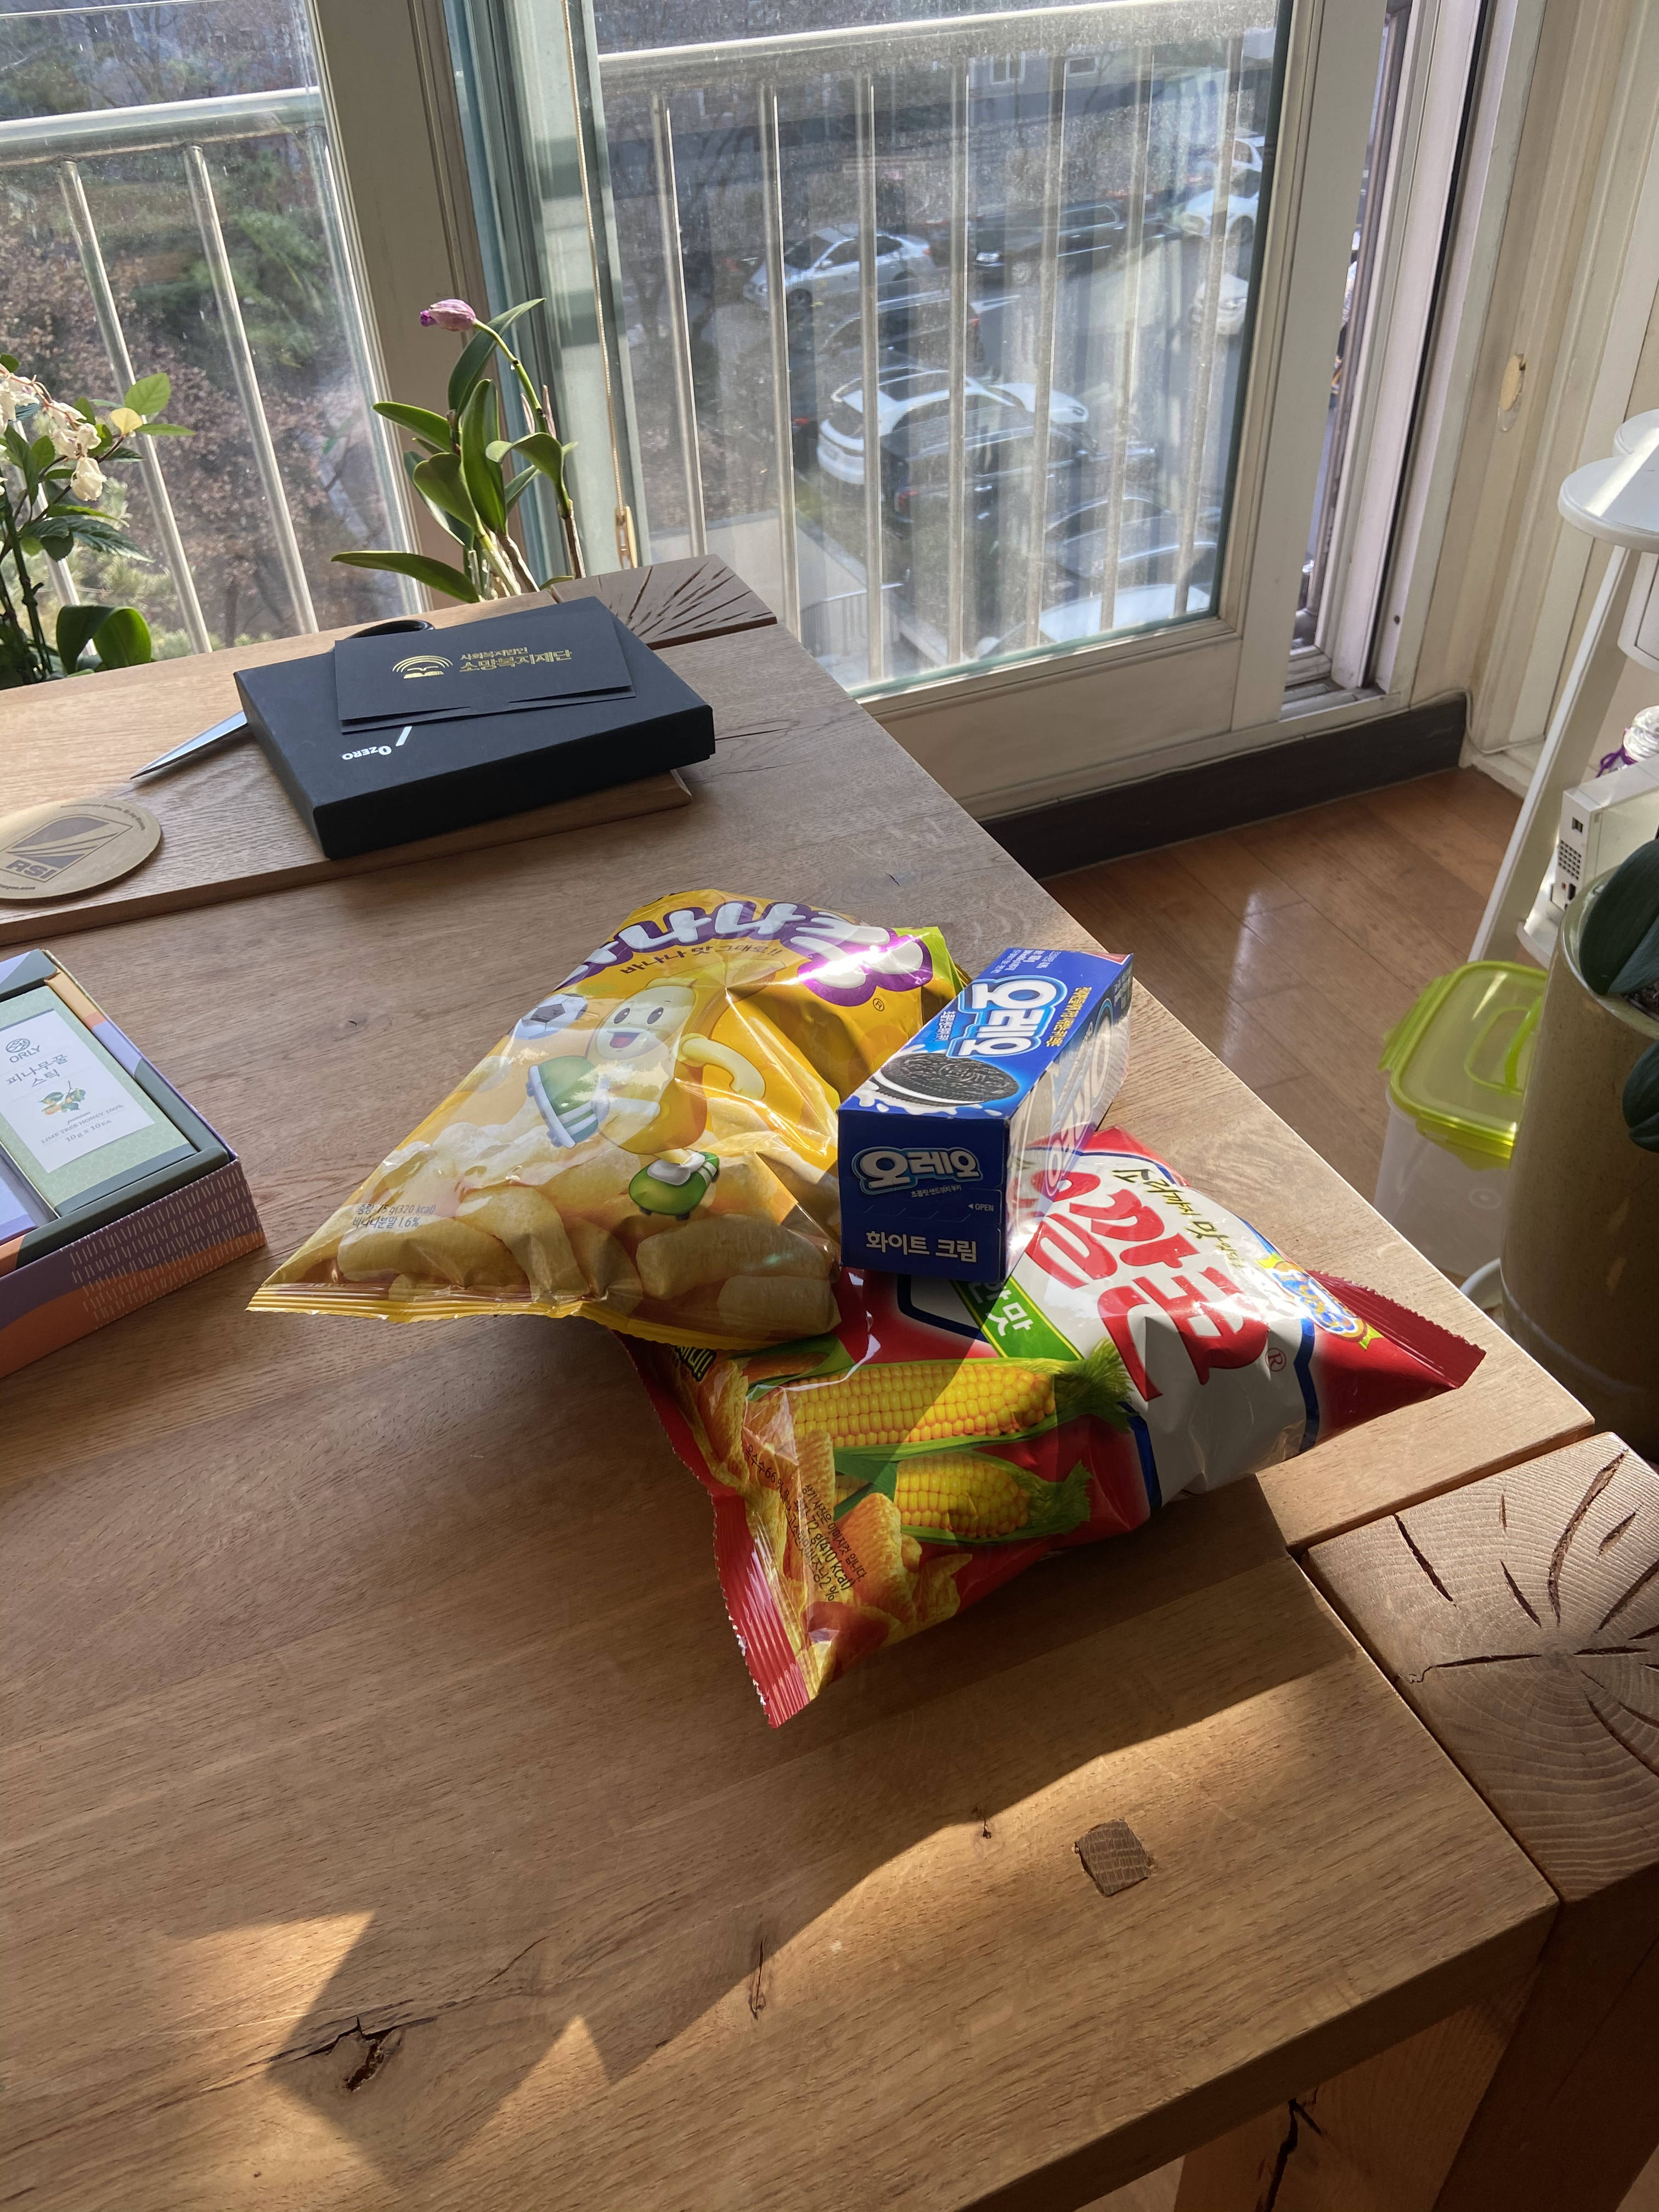banana: (218, 866, 971, 1376)
ggoggalcon: (603, 1104, 1486, 1750)
oreo: (817, 930, 1164, 1305)
